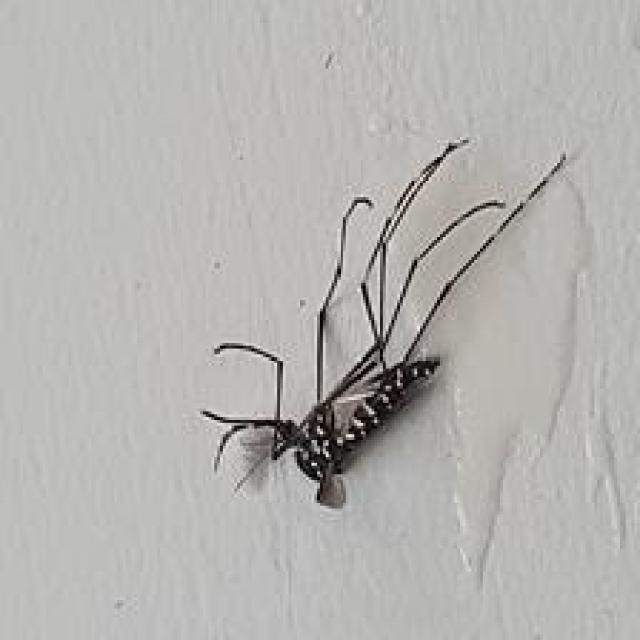Aedes albopictus: (200, 136, 569, 510)
